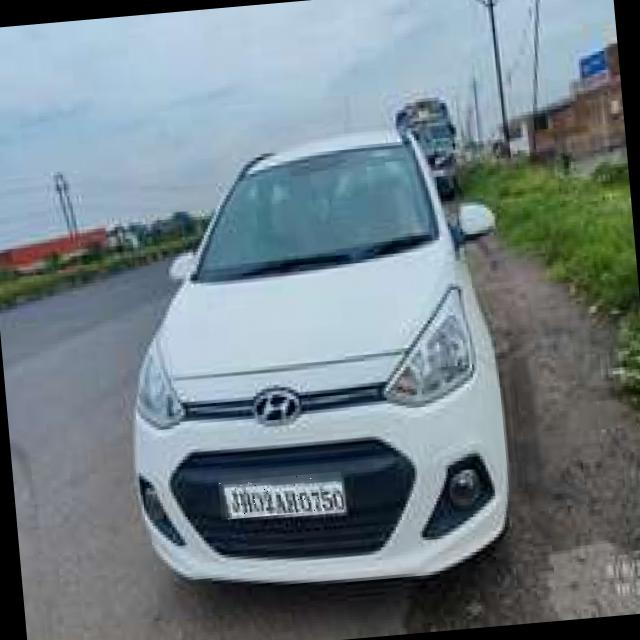Plate: (219, 472, 345, 521)
